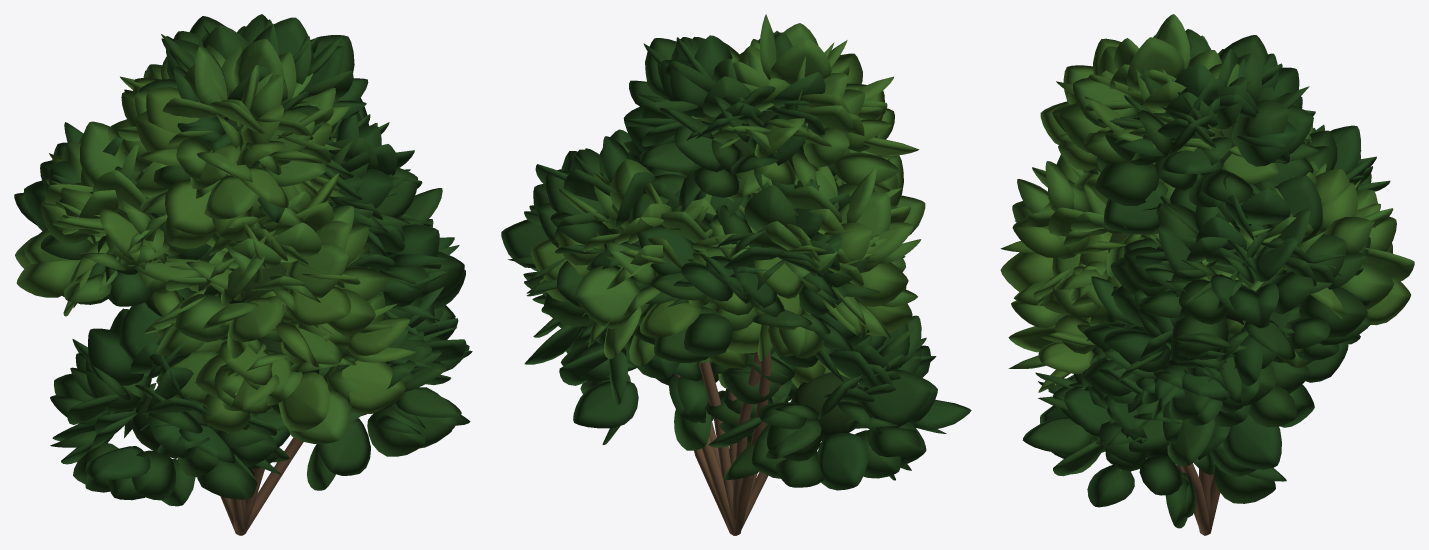
File: hedge_shrub_dark.glb
The picture shows the model from 3 angles, left to right: view 1: azimuth 30°, elevation 25°; view 2: azimuth 150°, elevation 25°; view 3: azimuth 270°, elevation 25°; orthographic projection. The views are drawn at different scales.
Parts seen in each view (by area): view 1: Sammel Pflanze, Sammel Blatt, Sammel Holz; view 2: Sammel Pflanze, Sammel Holz, Sammel Blatt; view 3: Sammel Pflanze, Sammel Holz, Sammel Blatt.
Boxes of the visible parts, x1,y1,x2,y2 form: Sammel Pflanze: (14,14,472,506); Sammel Blatt: (120,119,366,458); Sammel Holz: (207,424,303,535); Sammel Pflanze: (501,14,971,490); Sammel Holz: (674,351,781,535); Sammel Blatt: (604,110,859,441); Sammel Pflanze: (1000,14,1414,528); Sammel Holz: (1176,463,1220,535); Sammel Blatt: (1091,112,1307,458).
Bounding box in the file's own units: 1.11 × 1.35 × 1.02.
